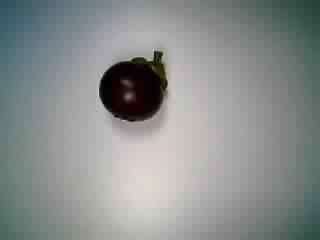mangosteen: (93, 46, 170, 121)
